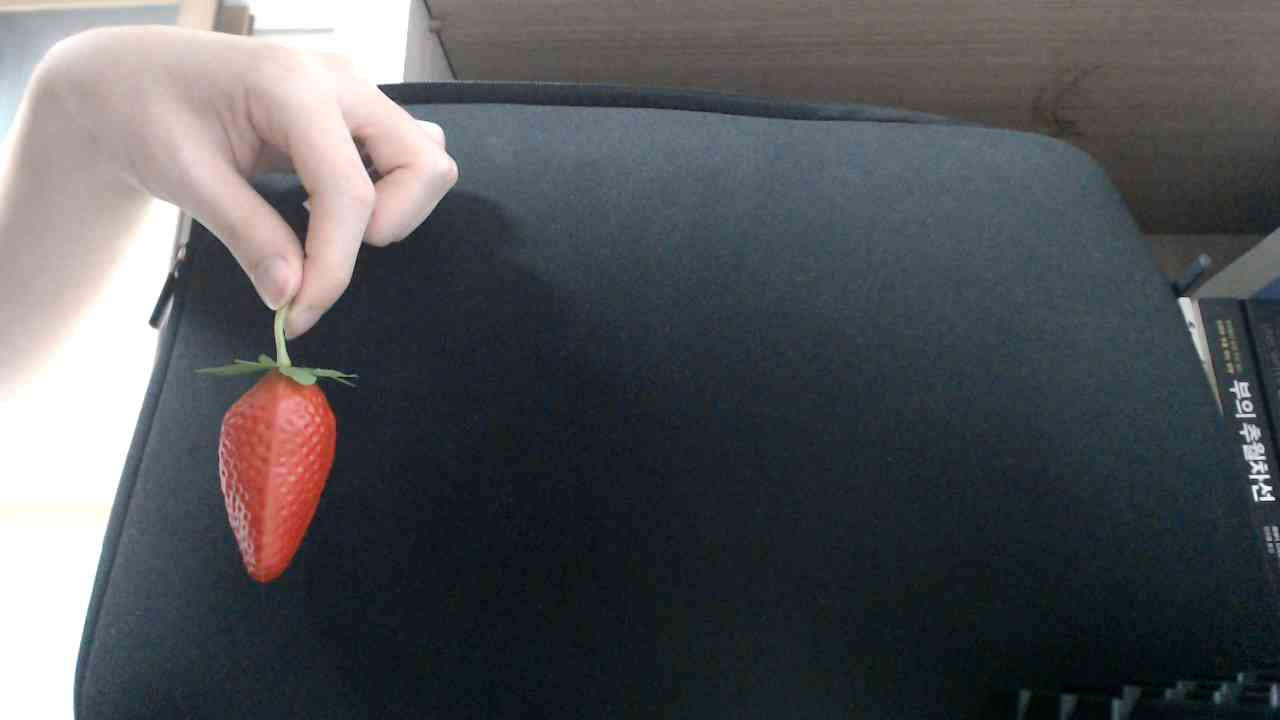strawberry: (209, 356, 349, 591)
